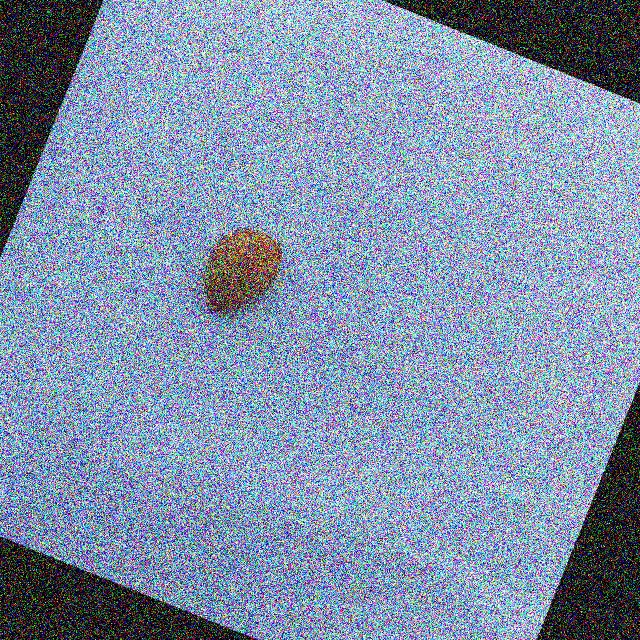grade2: (188, 213, 297, 332)
